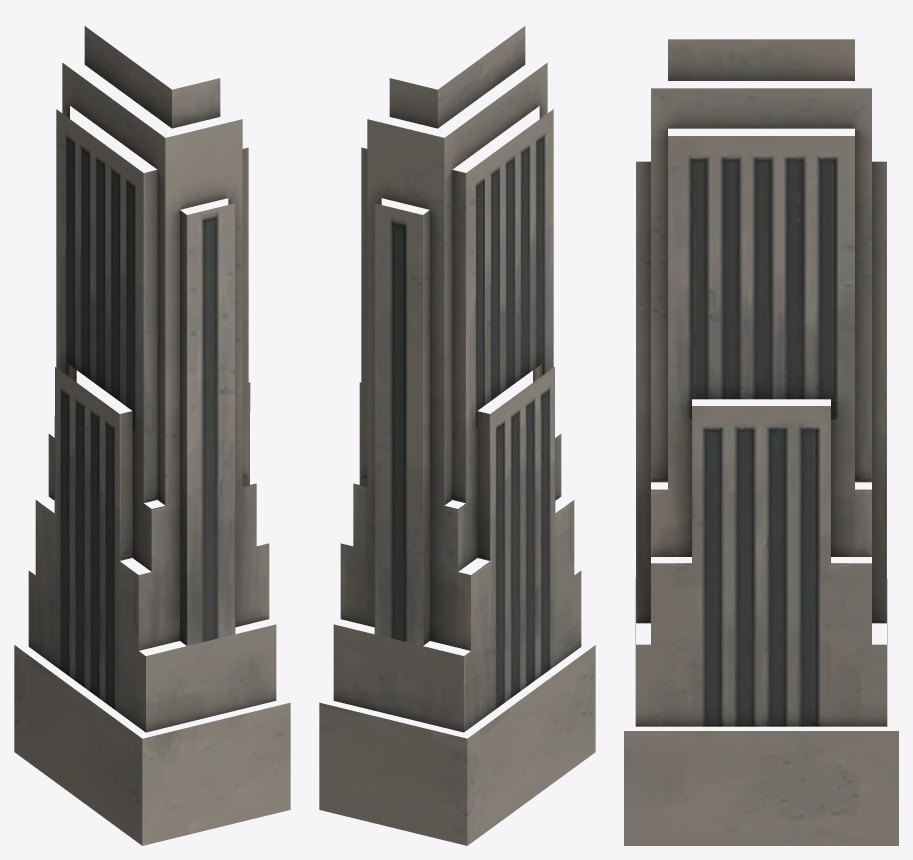
3 views of the same model, side by side, from view 1: azimuth 30°, elevation 25°; view 2: azimuth 150°, elevation 25°; view 3: azimuth 270°, elevation 25° (orthographic). The views are drawn at different scales.
Visible parts, largest first — view 1: body0_model0_lod0_mesh0; view 2: body0_model0_lod0_mesh0; view 3: body0_model0_lod0_mesh0.
Boxes of the visible parts, left/top/right/bottom form: body0_model0_lod0_mesh0: left=14, top=26, right=290, bottom=845; body0_model0_lod0_mesh0: left=319, top=26, right=595, bottom=845; body0_model0_lod0_mesh0: left=624, top=39, right=898, bottom=845.
Size of the model in its own units: 87.48 by 411 by 131.
1 material, 1 textured.
